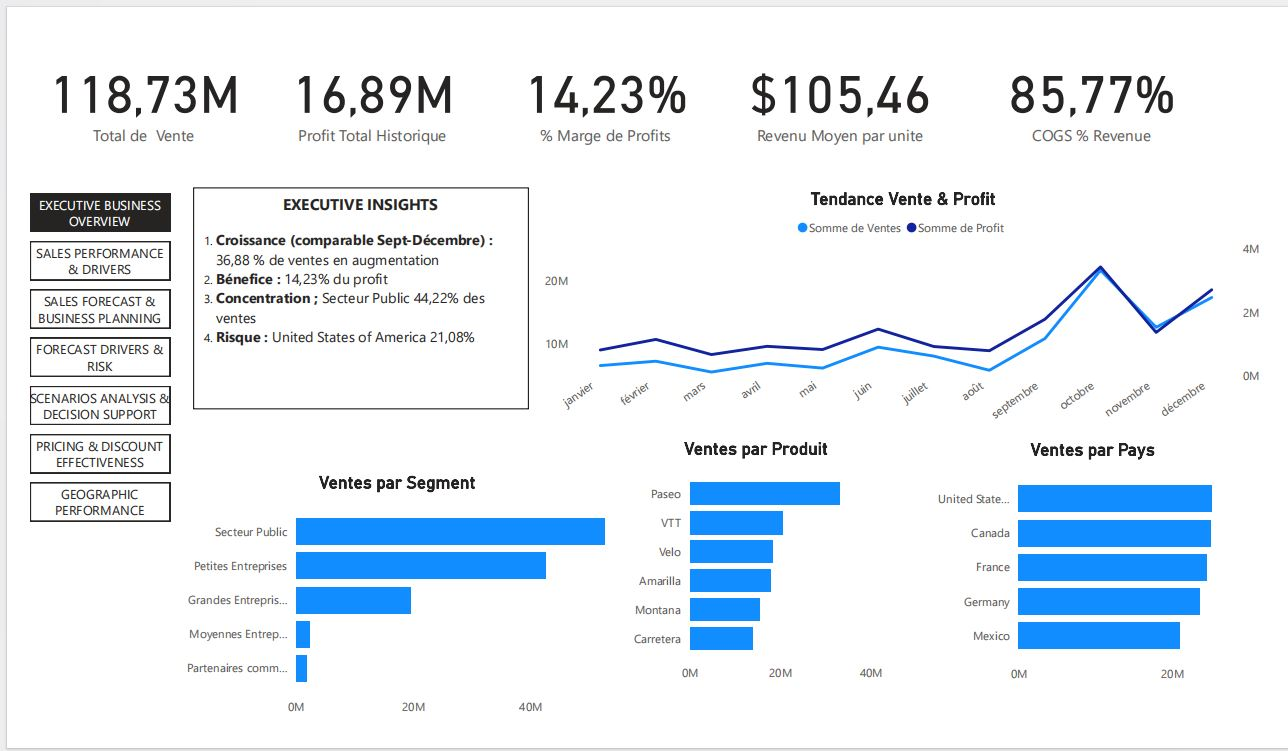

The page's visual inventory and layout, read from the dashboard file:
{"tool":"powerbi","page":{"name":"Vue d'ensemble de la performance commerciale","canvas":[1280,720],"ordinal":0},"visuals":[{"type":"card","fields":{"Values":["financials.Total de  Vente"]},"box":[10.2,0,216.3,140.8],"z":0},{"type":"card","fields":{"Values":["financials.Profit Total Historique"]},"box":[226.5,0,257.1,140.8],"z":1000},{"type":"card","fields":{"Values":["financials.% Marge de Profits"]},"box":[457.1,0,279.6,140.8],"z":2000},{"type":"card","fields":{"Values":["financials.Revenu Moyen par unite"]},"box":[700,0,279.6,140.8],"z":3000},{"type":"card","fields":{"Values":["financials.COGS % Revenue"]},"box":[991.8,0,218.4,140.8],"z":4000},{"type":"lineChart","title":"Evolution du chiffres d''affaires et du profit","fields":{"Y":["Sum(financials.Ventes)"],"Y2":["Sum(financials.Profit)"],"Category":["Calendrier.NomMois"]},"box":[529.2,163.9,751.4,261.1],"z":5000},{"type":"barChart","title":"Chiffres d''affaires par Segment","fields":{"Category":["financials.Segment"],"Y":["Sum(financials.Ventes)"]},"box":[146.2,425.5,468.6,293.6],"z":6000},{"type":"barChart","title":"Chiffre d''affaires par Produit","fields":{"Category":["financials.Produit"],"Y":["Sum(financials.Ventes)"]},"box":[616.1,422.7,272.7,295.8],"z":7000},{"type":"barChart","title":"Chiffre d''affaires par Pays","fields":{"Category":["financials.Pays"],"Y":["Sum(financials.Ventes)"]},"box":[921.9,424.2,359.2,294.3],"z":8000},{"type":"textbox","box":[169.4,162.5,347.2,230.6],"z":9000},{"type":"pageNavigator","box":[0,169,146.2,550.1],"z":11000}]}

Visuals, with their boxes on the page's 1280x720 design canvas (x1, y1, x2, y2). These are canvas units, not pixel positions in the 1288x751 screenshot, which may show the page scaled, cropped or inside an application window:
card - financials.Total de  Vente: [left=10, top=0, right=226, bottom=141]
card - financials.Profit Total Historique: [left=226, top=0, right=484, bottom=141]
card - financials.% Marge de Profits: [left=457, top=0, right=737, bottom=141]
card - financials.Revenu Moyen par unite: [left=700, top=0, right=980, bottom=141]
card - financials.COGS % Revenue: [left=992, top=0, right=1210, bottom=141]
"Evolution du chiffres d''affaires et du profit" lineChart: [left=529, top=164, right=1281, bottom=425]
"Chiffres d''affaires par Segment" barChart: [left=146, top=426, right=615, bottom=719]
"Chiffre d''affaires par Produit" barChart: [left=616, top=423, right=889, bottom=718]
"Chiffre d''affaires par Pays" barChart: [left=922, top=424, right=1281, bottom=718]
textbox: [left=169, top=162, right=517, bottom=393]
pageNavigator: [left=0, top=169, right=146, bottom=719]
